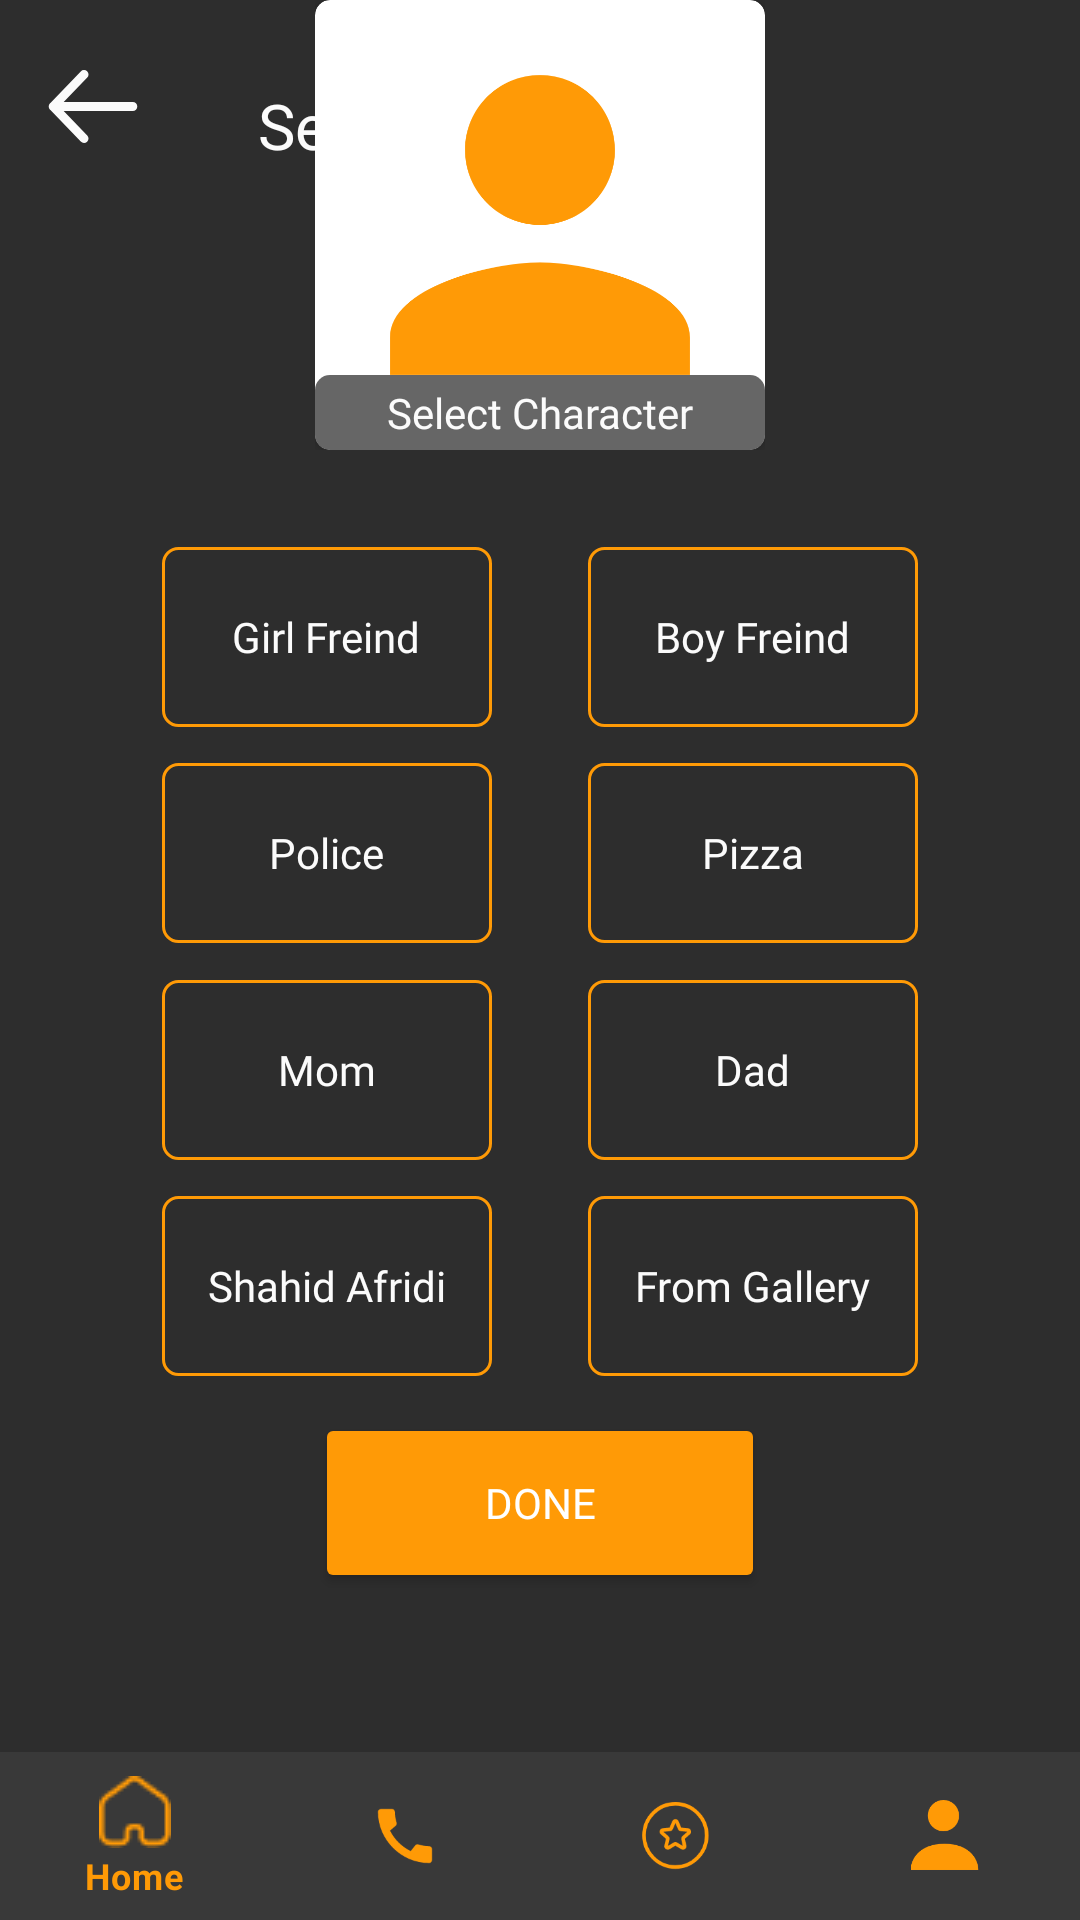

Icon click points for this 1080w x 1920h phone screenshot, format (x=x, y=y):
back: (x=93, y=106)
